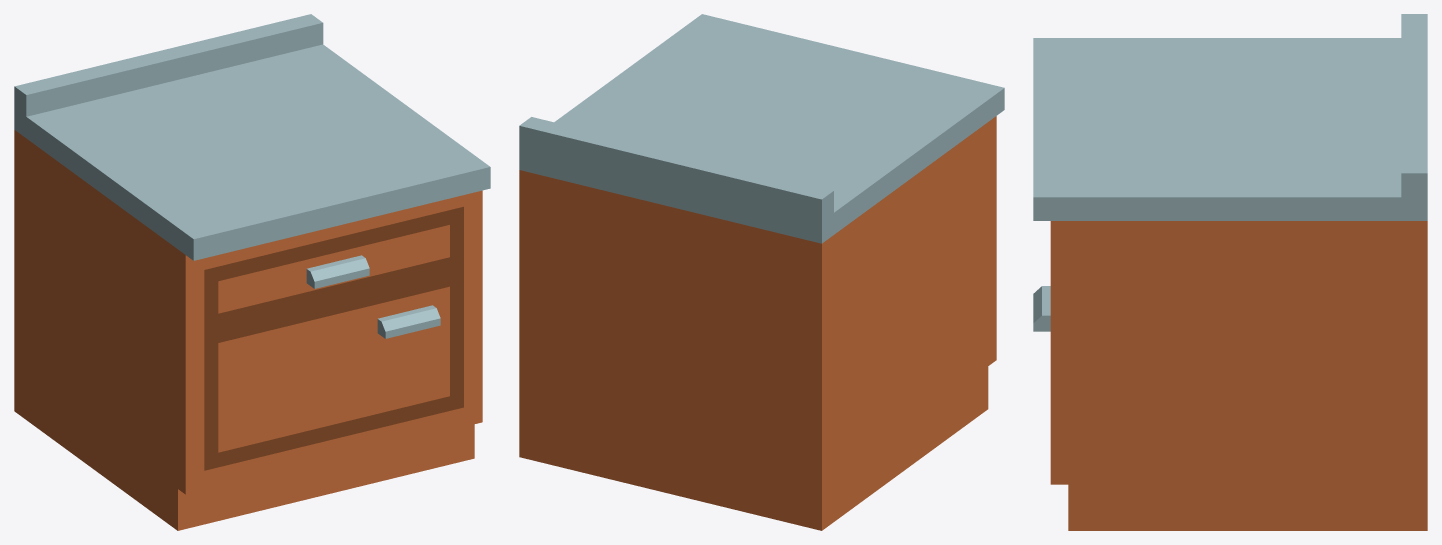
The model's file is kitchenCabinetDrawer.glb.
3 views of the same model, side by side, from view 1: azimuth 30°, elevation 25°; view 2: azimuth 150°, elevation 25°; view 3: azimuth 270°, elevation 25° (orthographic). The views are drawn at different scales.
Parts seen in each view (by area): view 1: kitchenCabinetDrawer(Clone), door, drawer; view 2: kitchenCabinetDrawer(Clone); view 3: kitchenCabinetDrawer(Clone), door.
Boxes of the visible parts, x1=… form: kitchenCabinetDrawer(Clone): x1=14, y1=14, x2=490, y2=530; door: x1=204, y1=268, x2=463, y2=470; drawer: x1=204, y1=206, x2=463, y2=331; kitchenCabinetDrawer(Clone): x1=519, y1=14, x2=1004, y2=530; kitchenCabinetDrawer(Clone): x1=1033, y1=14, x2=1427, y2=530; door: x1=1033, y1=286, x2=1050, y2=331.
Size of the model in its own units: 0.43 by 0.45 by 0.45.
Materials: 3 (3 with a texture image).
